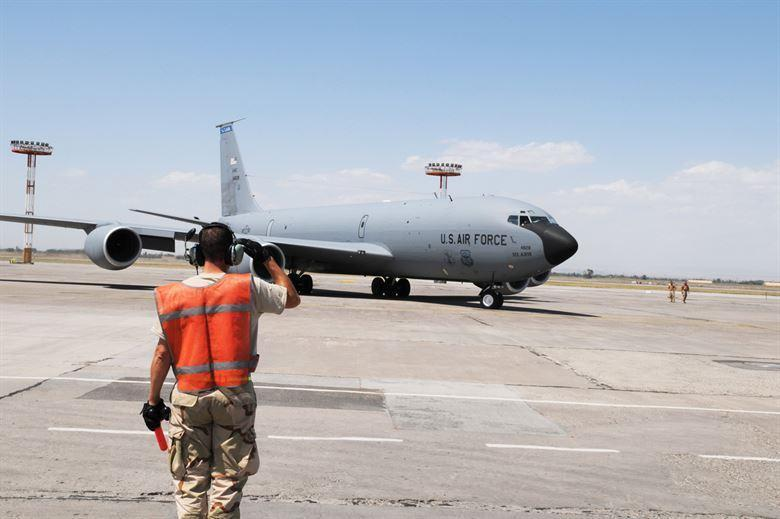vest: (158, 278, 259, 388)
